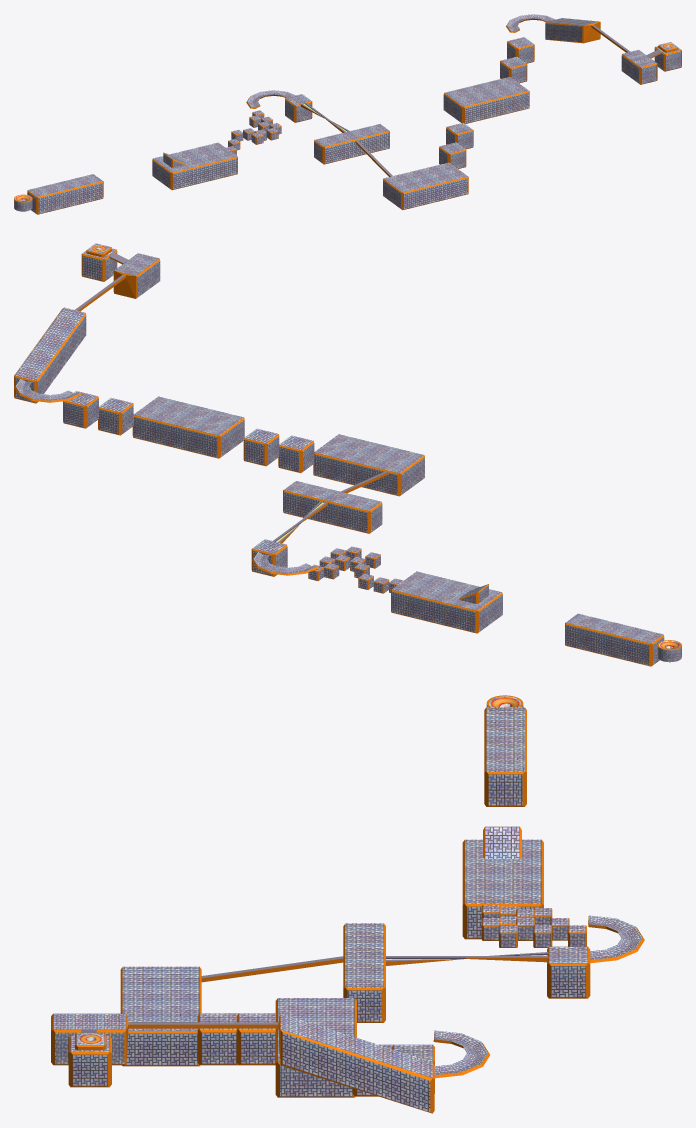
The model's file is Level27.fbx.
3 renders of one model, top to bottom at view 1: azimuth 30°, elevation 25°; view 2: azimuth 150°, elevation 25°; view 3: azimuth 270°, elevation 25°, orthographic. The views are drawn at different scales.
Visible parts, largest first — view 1: Level27; view 2: Level27; view 3: Level27.
Part boxes in pixels (x1,y1,x2,y2): Level27: (14, 14, 681, 214); Level27: (14, 243, 681, 666); Level27: (51, 695, 644, 1113).
Size of the model in its own units: 9897 by 1939 by 4555.
12 materials, 7 textured.
